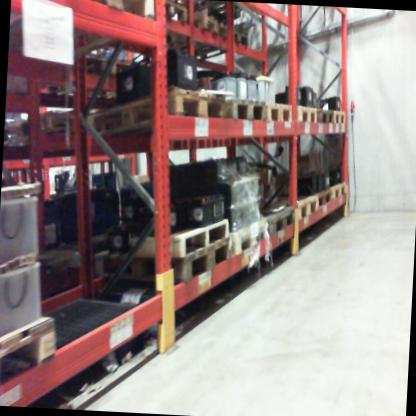pallet: (79, 73, 229, 154), (14, 0, 159, 82), (96, 225, 233, 292), (119, 203, 234, 268), (5, 91, 92, 157), (0, 310, 62, 395), (179, 20, 252, 75), (230, 207, 265, 267), (150, 4, 193, 50), (263, 194, 300, 243), (224, 89, 266, 131), (197, 9, 232, 45), (264, 91, 295, 129), (284, 188, 319, 221), (309, 181, 331, 215), (293, 103, 317, 130), (330, 177, 349, 204), (316, 104, 334, 128), (333, 106, 348, 129)
